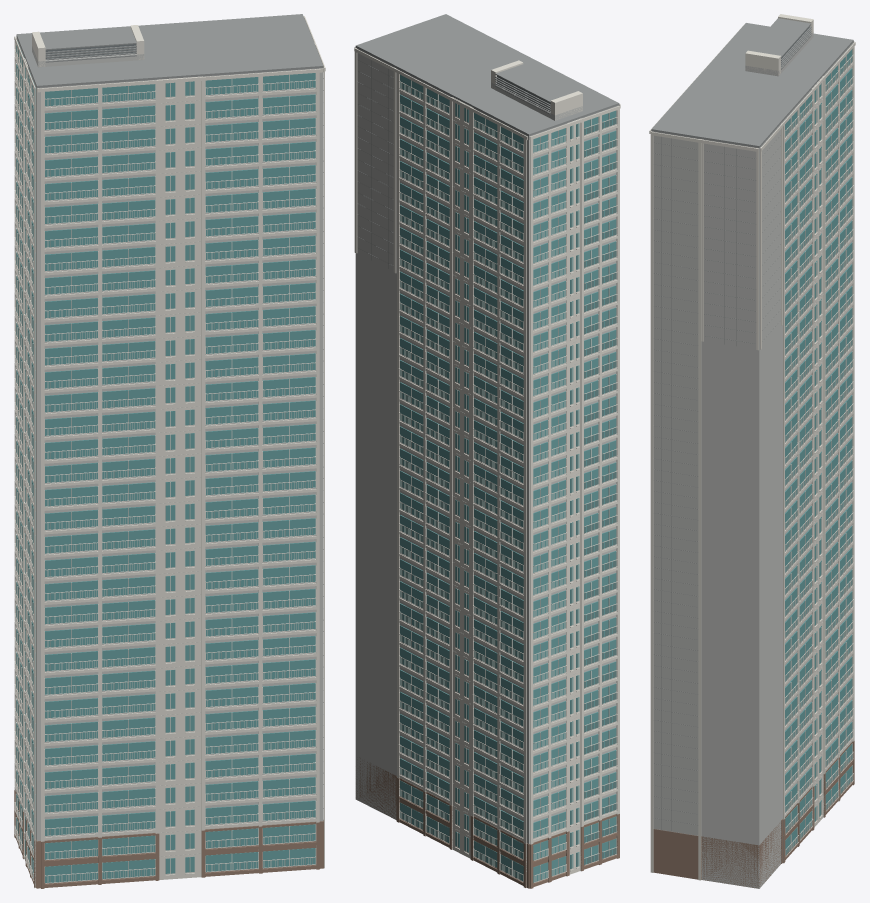
The model's file is bespoke-jamsil-els-139.glb.
The picture shows the model from 3 angles, left to right: view 1: azimuth 30°, elevation 25°; view 2: azimuth 150°, elevation 25°; view 3: azimuth 270°, elevation 25°; orthographic projection. The views are drawn at different scales.
Parts seen in each view (by area): view 1: Els139_editable_Els139_turquoise_balcony_glazing002, Els139_white_exact_chunk_3, Els139_editable_Els139_light_grey_solid_wall002, Els139_white_exact_chunk_4, Els139_white_exact_chunk_5, Els139_white_exact_chunk_6, Els139_editable_Els139_modest_grey_flat_roof_caps002, Els139_white_exact_chunk_2, Els139_editable_Els139_muted_ground_wall002, Els139_editable_Els139_narrow_charcoal_service_strips002; view 2: Els139_editable_Els139_turquoise_balcony_glazing002, Els139_editable_Els139_light_grey_solid_wall002, Els139_white_exact_chunk_2, Els139_white_exact_chunk_0, Els139_white_exact_chunk_1, Els139_white_exact_chunk_3, Els139_editable_Els139_modest_grey_flat_roof_caps002, Els139_editable_Els139_muted_ground_wall002, Els139_editable_Shared-wall_clipped_surface_0002, Els139_editable_Shared-wall_clipped_surface_1002, Els139_white_exact_chunk_6; view 3: Els139_editable_Els139_light_grey_solid_wall002, Els139_editable_Els139_turquoise_balcony_glazing002, Els139_white_exact_chunk_0, Els139_editable_Els139_modest_grey_flat_roof_caps002, Els139_white_exact_chunk_1, Els139_white_exact_chunk_2, Els139_editable_Shared-wall_clipped_surface_1002, Els139_white_exact_chunk_6, Els139_editable_Shared-wall_clipped_surface_0002, Els139_editable_Els139_muted_ground_wall002.
Boxes of the visible parts, box(x1,y1,x2,y2) form: Els139_editable_Els139_turquoise_balcony_glazing002: box(16, 40, 315, 882); Els139_white_exact_chunk_3: box(14, 36, 202, 887); Els139_editable_Els139_light_grey_solid_wall002: box(16, 37, 323, 856); Els139_white_exact_chunk_4: box(41, 80, 258, 879); Els139_white_exact_chunk_5: box(205, 77, 316, 868); Els139_white_exact_chunk_6: box(32, 16, 325, 876); Els139_editable_Els139_modest_grey_flat_roof_caps002: box(16, 14, 323, 820); Els139_white_exact_chunk_2: box(14, 35, 29, 870); Els139_editable_Els139_muted_ground_wall002: box(14, 790, 323, 888); Els139_editable_Els139_narrow_charcoal_service_strips002: box(45, 44, 136, 58); Els139_editable_Els139_turquoise_balcony_glazing002: box(400, 74, 616, 882); Els139_editable_Els139_light_grey_solid_wall002: box(355, 48, 618, 852); Els139_white_exact_chunk_2: box(395, 69, 599, 887); Els139_white_exact_chunk_0: box(398, 74, 473, 858); Els139_white_exact_chunk_1: box(397, 69, 523, 881); Els139_white_exact_chunk_3: box(529, 105, 620, 870); Els139_editable_Els139_modest_grey_flat_roof_caps002: box(355, 14, 619, 265); Els139_editable_Els139_muted_ground_wall002: box(396, 777, 619, 888); Els139_editable_Shared-wall_clipped_surface_0002: box(355, 757, 528, 888); Els139_editable_Shared-wall_clipped_surface_1002: box(354, 47, 396, 273); Els139_white_exact_chunk_6: box(354, 47, 620, 119); Els139_editable_Els139_light_grey_solid_wall002: box(652, 32, 853, 888); Els139_editable_Els139_turquoise_balcony_glazing002: box(785, 49, 852, 855); Els139_white_exact_chunk_0: box(785, 76, 823, 856); Els139_editable_Els139_modest_grey_flat_roof_caps002: box(651, 18, 853, 835); Els139_white_exact_chunk_1: box(783, 64, 853, 862); Els139_white_exact_chunk_2: box(782, 42, 855, 816); Els139_editable_Shared-wall_clipped_surface_1002: box(698, 123, 782, 880); Els139_white_exact_chunk_6: box(649, 14, 813, 872); Els139_editable_Shared-wall_clipped_surface_0002: box(701, 742, 852, 887); Els139_editable_Els139_muted_ground_wall002: box(653, 741, 854, 879).
Size of the model in its own units: 33.89 by 96.2 by 23.62.
